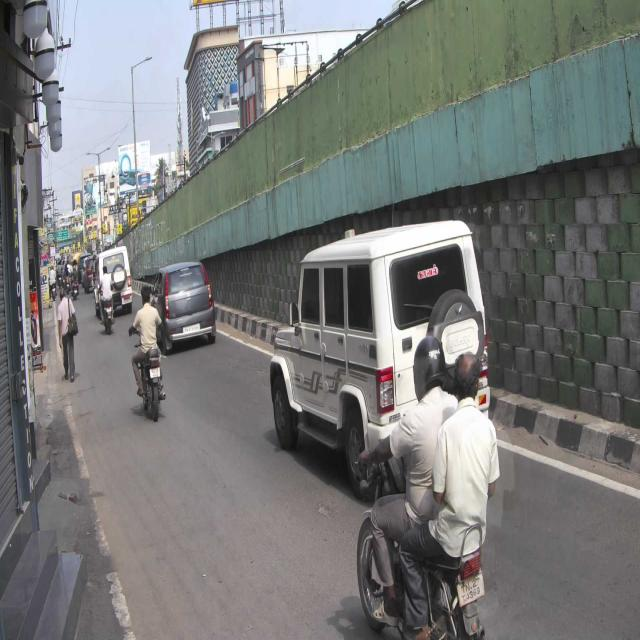double_rider: (357, 337, 499, 640)
